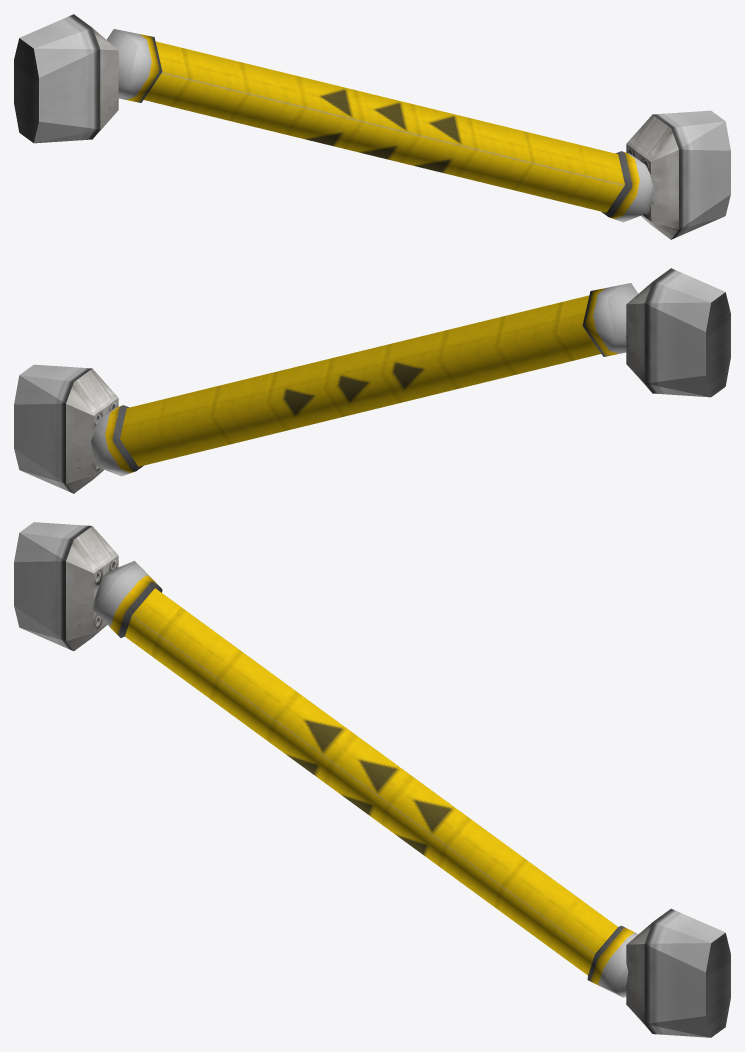
The model's file is fuelLine.DAE.
The picture shows the model from 3 angles, top to bottom: view 1: azimuth 30°, elevation 25°; view 2: azimuth 150°, elevation 25°; view 3: azimuth 330°, elevation 25°; orthographic projection.
Parts seen in each view (by area): view 1: obj_line, obj_targetAnchor-Pivot, anchor-Pivot, obj_targetCap-Pivot, obj_anchorCap; view 2: obj_line, obj_targetAnchor-Pivot, anchor-Pivot, obj_targetCap-Pivot, obj_anchorCap; view 3: obj_line, anchor-Pivot, obj_targetAnchor-Pivot, obj_targetCap-Pivot, obj_anchorCap.
Boxes of the visible parts, bbox=[...] form: obj_line: bbox=[144, 41, 624, 212]; obj_targetAnchor-Pivot: bbox=[14, 14, 118, 143]; anchor-Pivot: bbox=[626, 110, 730, 239]; obj_targetCap-Pivot: bbox=[106, 29, 162, 102]; obj_anchorCap: bbox=[601, 151, 653, 222]; obj_line: bbox=[120, 295, 600, 466]; obj_targetAnchor-Pivot: bbox=[626, 268, 730, 397]; anchor-Pivot: bbox=[14, 364, 118, 493]; obj_targetCap-Pivot: bbox=[582, 283, 638, 356]; obj_anchorCap: bbox=[91, 405, 143, 476]; obj_line: bbox=[125, 588, 617, 975]; anchor-Pivot: bbox=[626, 908, 730, 1037]; obj_targetAnchor-Pivot: bbox=[14, 522, 118, 651]; obj_targetCap-Pivot: bbox=[93, 561, 162, 637]; obj_anchorCap: bbox=[587, 925, 638, 997].
Size of what is drawn, in the model's own units: 1.27 by 0.6183 by 0.1092.
